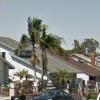Palm tree: (17, 15, 55, 82)
